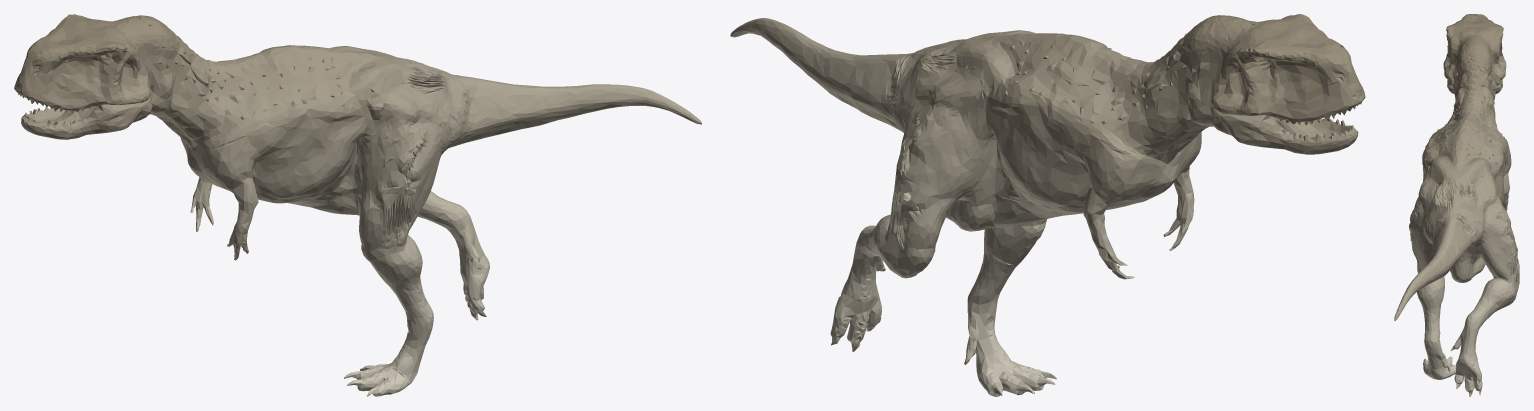
File: abelisaurus.glb
The picture shows the model from 3 angles, left to right: view 1: azimuth 30°, elevation 25°; view 2: azimuth 150°, elevation 25°; view 3: azimuth 270°, elevation 25°; orthographic projection. The views are drawn at different scales.
Parts seen in each view (by area): view 1: world; view 2: world; view 3: world.
Boxes of the visible parts, x1,y1,x2,y2 form: world: (14,14,701,396); world: (730,14,1365,396); world: (1394,14,1519,396).
Size of the model in its own units: 11.99 by 7.37 by 3.21.
